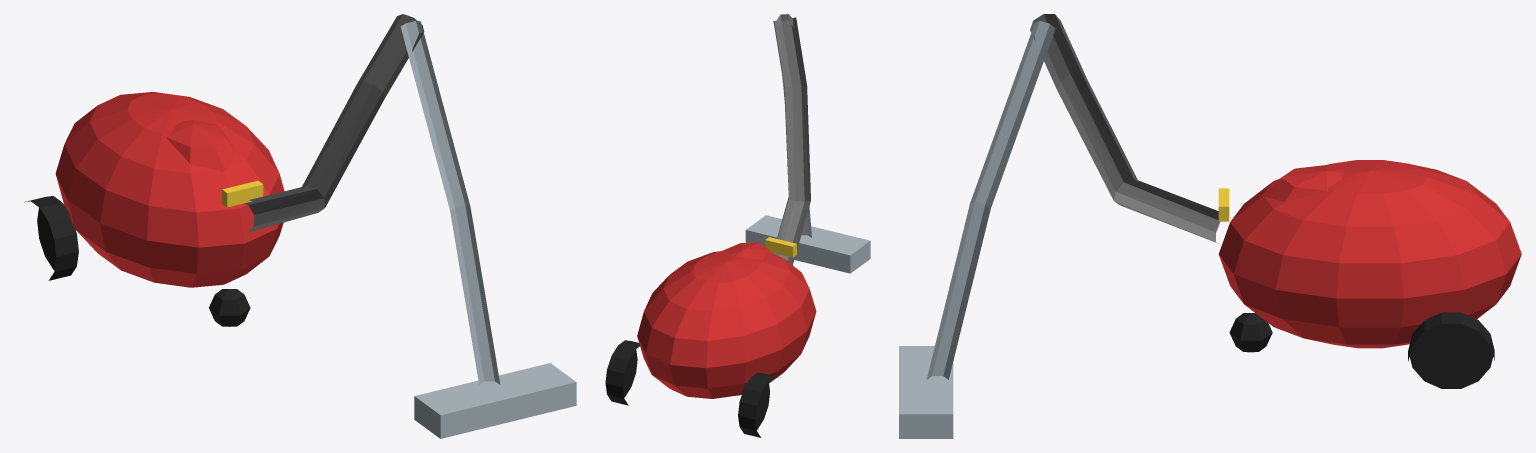
File: dammsugare.glb
The picture shows the model from 3 angles, left to right: view 1: azimuth 30°, elevation 25°; view 2: azimuth 150°, elevation 25°; view 3: azimuth 270°, elevation 25°; orthographic projection. The views are drawn at different scales.
Parts seen in each view (by area): view 1: dammsugare; view 2: dammsugare; view 3: dammsugare.
Part boxes in pixels (x1,y1,x2,y2): dammsugare: (24,14,576,438); dammsugare: (605,14,870,437); dammsugare: (899,14,1521,438).
Bounding box in the file's own units: 0.605 × 0.7639 × 1.15.
